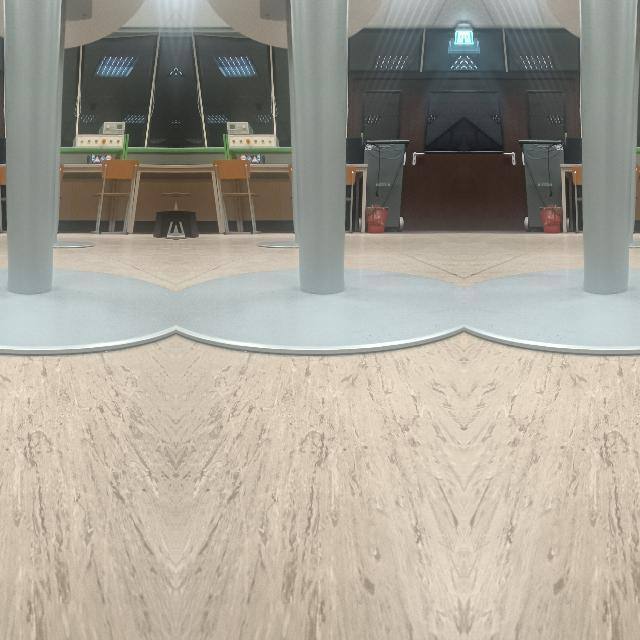obstacle: (176, 52, 462, 354), (466, 51, 640, 354), (0, 51, 173, 354)
